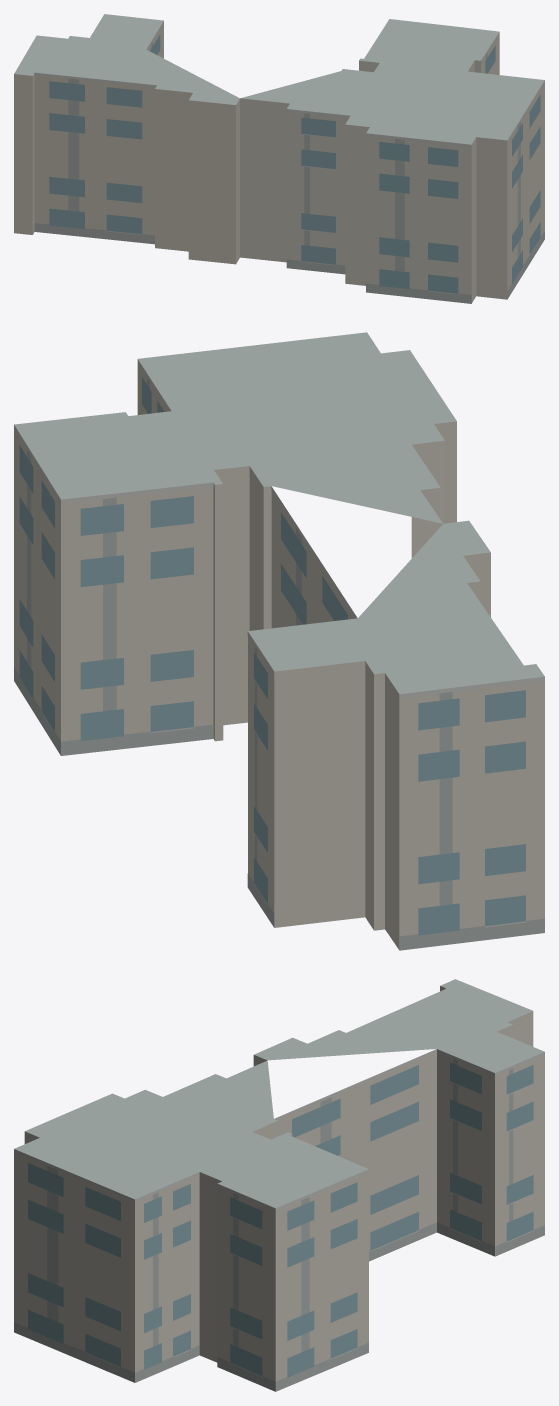
Rendered from residential-431d0d3e-8dae-4730-af7c-858ea5468f73.glb.
The picture shows the model from 3 angles, top to bottom: view 1: azimuth 30°, elevation 25°; view 2: azimuth 150°, elevation 25°; view 3: azimuth 270°, elevation 25°; orthographic projection. The views are drawn at different scales.
Parts seen in each view (by area): view 1: residential-431d0d3e-8dae-4730-af7c-858ea5468f73.tmp; view 2: residential-431d0d3e-8dae-4730-af7c-858ea5468f73.tmp; view 3: residential-431d0d3e-8dae-4730-af7c-858ea5468f73.tmp.
Boxes of the visible parts, left/top/right/bottom form: residential-431d0d3e-8dae-4730-af7c-858ea5468f73.tmp: left=14, top=14, right=544, bottom=303; residential-431d0d3e-8dae-4730-af7c-858ea5468f73.tmp: left=14, top=332, right=544, bottom=950; residential-431d0d3e-8dae-4730-af7c-858ea5468f73.tmp: left=14, top=979, right=544, bottom=1391.
Size of the model in its own units: 40.87 by 15.25 by 39.99.
